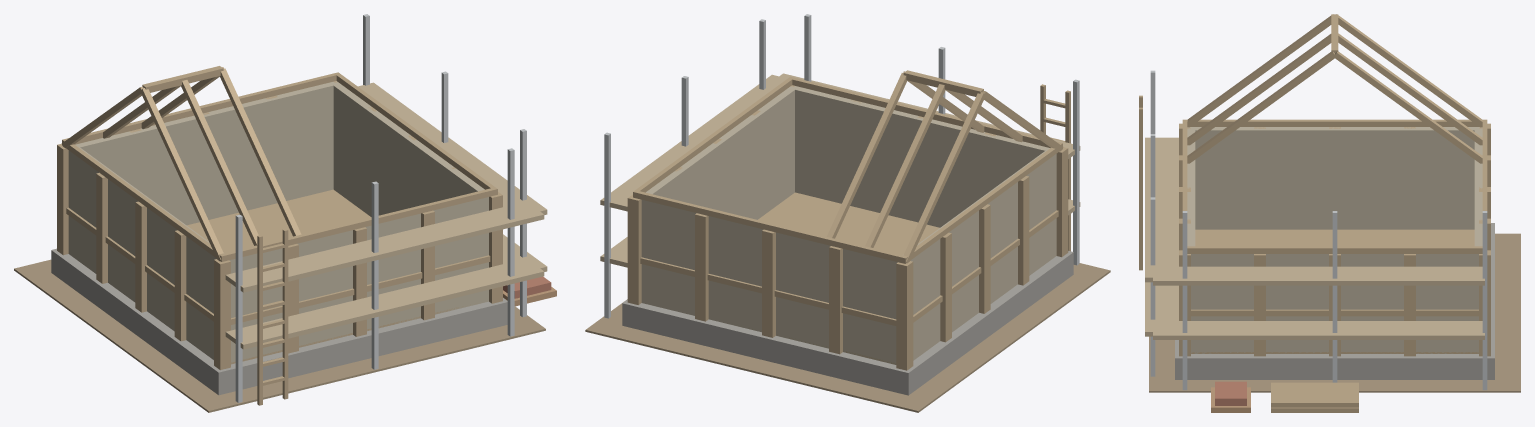
File: goat_pen_site_8.glb
3 renders of one model, left to right at view 1: azimuth 30°, elevation 25°; view 2: azimuth 150°, elevation 25°; view 3: azimuth 270°, elevation 25°, orthographic. The views are drawn at different scales.
Visible parts, largest first — view 1: body; view 2: body; view 3: body.
Boxes of the visible parts, x1,y1,x2,y2 form: body: [14, 14, 556, 412]; body: [585, 14, 1110, 412]; body: [1139, 14, 1520, 412].
Size of the model in its own units: 2.1 by 1.31 by 1.91.
